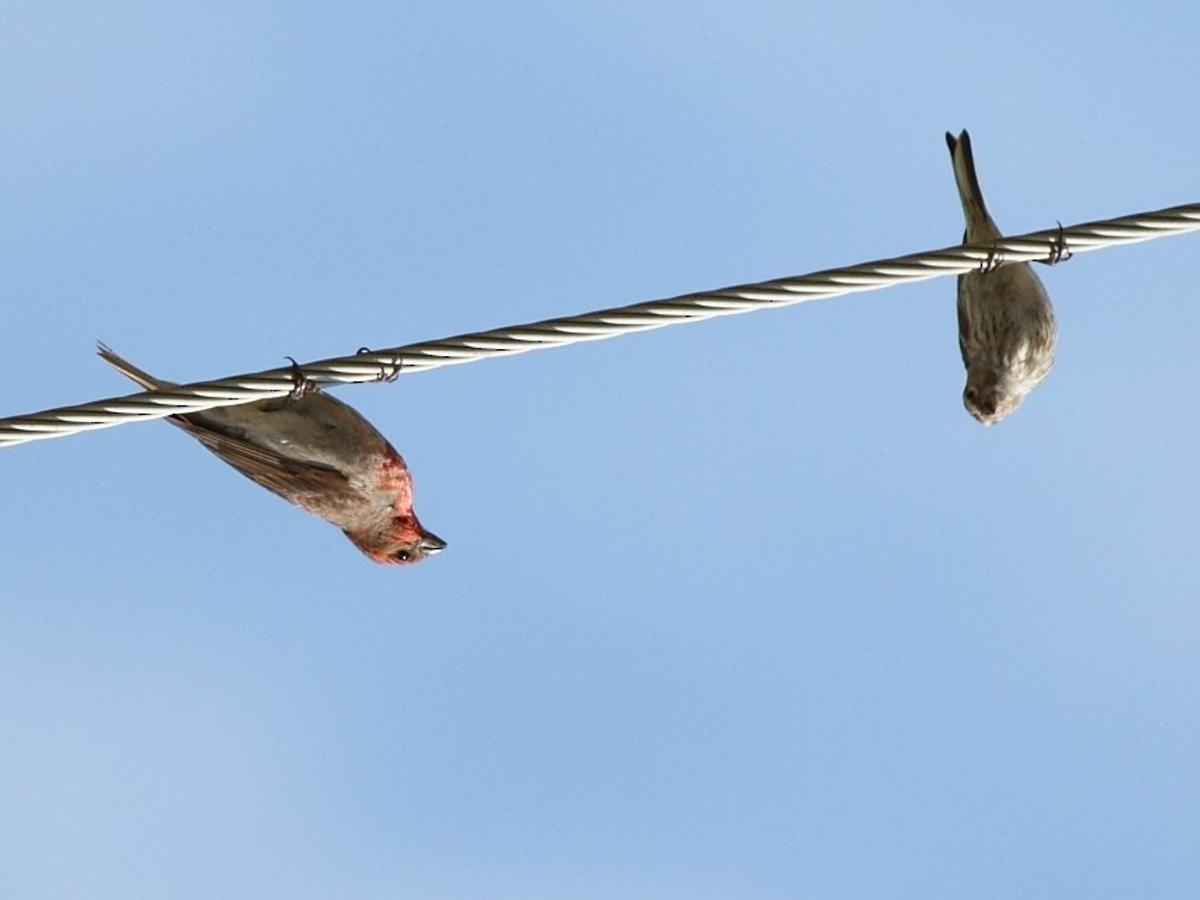rosefinch: (210, 361, 465, 572)
